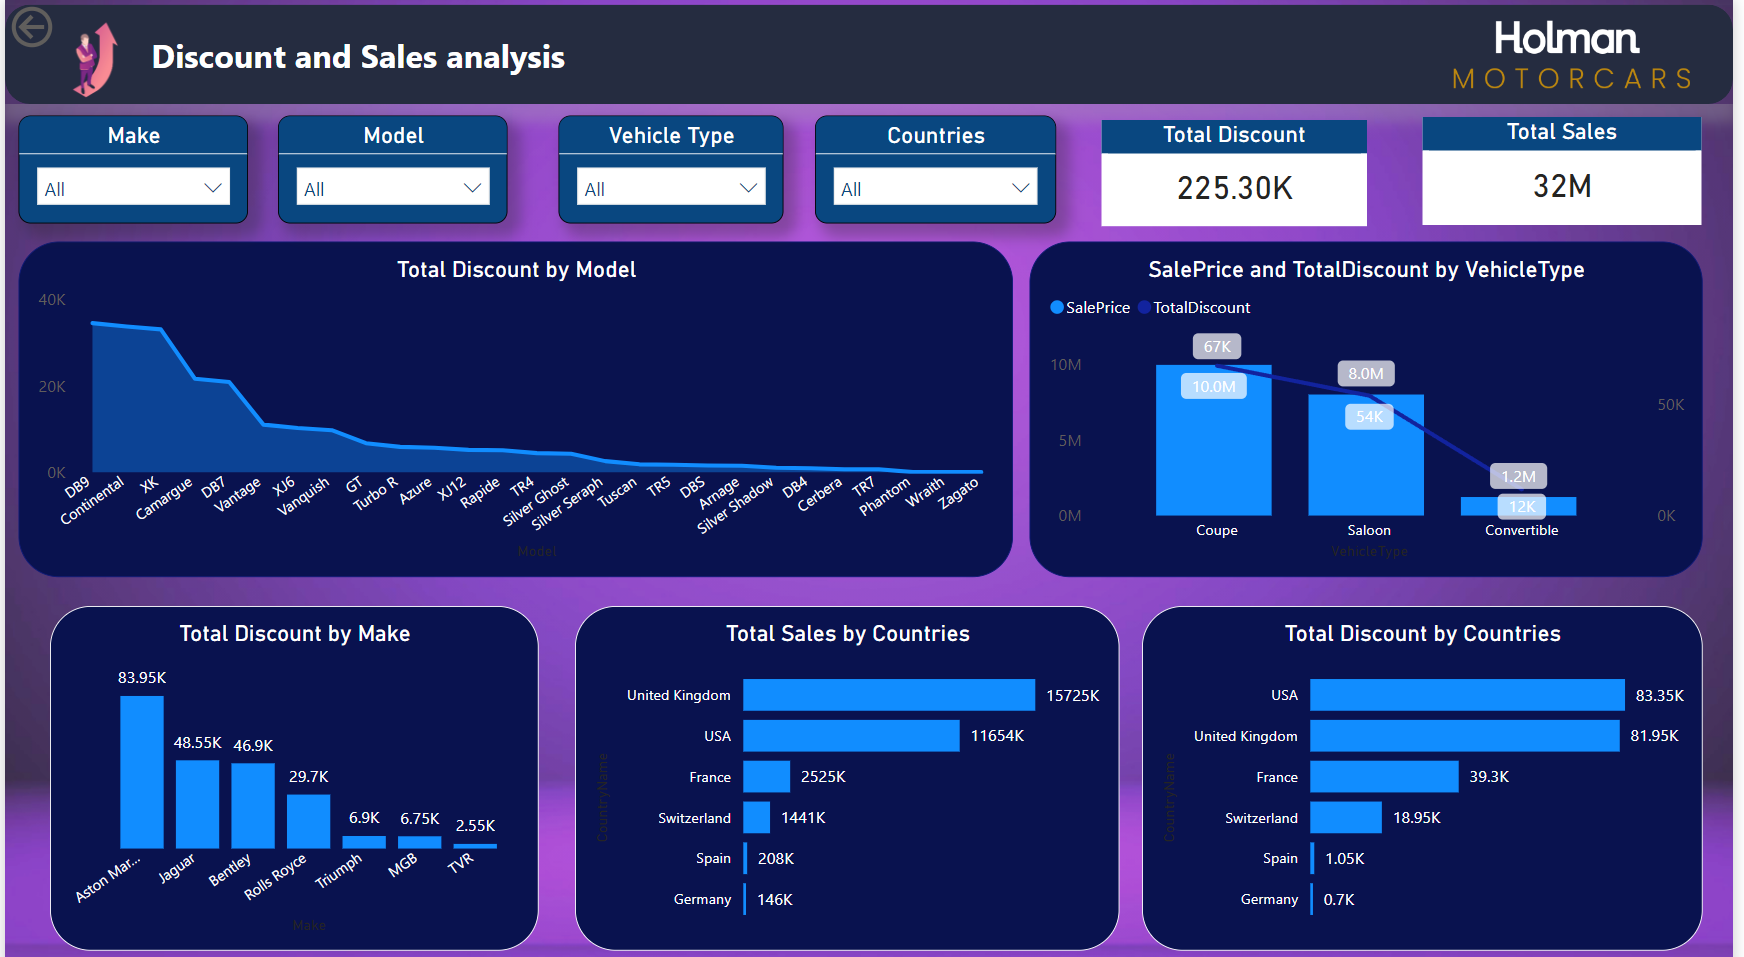

Layout of this report page (visuals, bound fields, positions):
{"tool":"powerbi","page":{"name":"Discount and Sales analysis","canvas":[1280,720],"ordinal":3},"visuals":[{"type":"lineClusteredColumnComboChart","fields":{"Y":["Sum(BaseData.SalePrice)"],"Y2":["Sum(BaseData.TotalDiscount)"],"Category":["BaseData.VehicleType"]},"box":[758.3,178.3,498.3,248.3],"z":0},{"type":"clusteredBarChart","title":"Total Discount by Countries","fields":{"Y":["Sum(BaseData.TotalDiscount)"],"Category":["BaseData.CountryName"]},"box":[841.7,448.3,415,255],"z":1000},{"type":"columnChart","title":"Total Discount by Make","fields":{"Category":["BaseData.Make"],"Y":["Sum(BaseData.TotalDiscount)"]},"box":[33.3,448.3,361.7,255],"z":2000},{"type":"areaChart","title":"Total Discount by Model","fields":{"Category":["BaseData.Model"],"Y":["Sum(BaseData.TotalDiscount)"]},"box":[10,178.3,736.7,248.3],"z":3000},{"type":"shape","box":[0,3.8,1280,73.8],"z":4000},{"type":"textbox","box":[103.3,18.3,365,58.3],"z":5000},{"type":"image","box":[1064.3,10,191.4,60],"z":6000},{"type":"image","box":[10,0,112.9,84.3],"z":7000},{"type":"actionButton","box":[0,0,100,40],"z":8000},{"type":"clusteredBarChart","title":"Total Sales by Countries","fields":{"Category":["BaseData.CountryName"],"Y":["Sum(BaseData.SalePrice)"]},"box":[421.7,448.3,403.3,255],"z":9000},{"type":"slicer","title":"Make","fields":{"Values":["BaseData.Make"]},"box":[10,85,170,80],"z":10000},{"type":"slicer","title":"Vehicle Type","fields":{"Values":["BaseData.VehicleType"]},"box":[410,85,166.7,80],"z":11000},{"type":"card","title":"Total Sales","fields":{"Values":["Sum(BaseData.SalePrice)"]},"box":[1050,86.7,206.7,80],"z":12000},{"type":"card","title":"Total Discount","fields":{"Values":["Sum(BaseData.TotalDiscount)"]},"box":[811.7,88.3,196.7,78.3],"z":13000},{"type":"slicer","title":"Model","fields":{"Values":["BaseData.Model"]},"box":[201.7,85,170,80],"z":14000},{"type":"slicer","title":"Countries","fields":{"Values":["BaseData.CountryName"]},"box":[600,85,178.3,80],"z":15000}]}

Visuals, with their boxes in screenshot pixels (x1, y1, x2, y2), scaled from the page's 1280x720 canvas onto the 1744x957 screenshot:
lineClusteredColumnComboChart - Sum(BaseData.SalePrice) x Sum(BaseData.TotalDiscount): <bbox>1033, 237, 1712, 567</bbox>
"Total Discount by Countries" clusteredBarChart: <bbox>1147, 596, 1712, 935</bbox>
"Total Discount by Make" columnChart: <bbox>45, 596, 538, 935</bbox>
"Total Discount by Model" areaChart: <bbox>14, 237, 1017, 567</bbox>
shape: <bbox>0, 5, 1743, 103</bbox>
textbox: <bbox>141, 24, 638, 102</bbox>
image: <bbox>1450, 13, 1711, 93</bbox>
image: <bbox>14, 0, 167, 112</bbox>
actionButton: <bbox>0, 0, 136, 53</bbox>
"Total Sales by Countries" clusteredBarChart: <bbox>575, 596, 1124, 935</bbox>
"Make" slicer: <bbox>14, 113, 245, 219</bbox>
"Vehicle Type" slicer: <bbox>559, 113, 786, 219</bbox>
"Total Sales" card: <bbox>1431, 115, 1712, 222</bbox>
"Total Discount" card: <bbox>1106, 117, 1374, 221</bbox>
"Model" slicer: <bbox>275, 113, 506, 219</bbox>
"Countries" slicer: <bbox>818, 113, 1060, 219</bbox>
